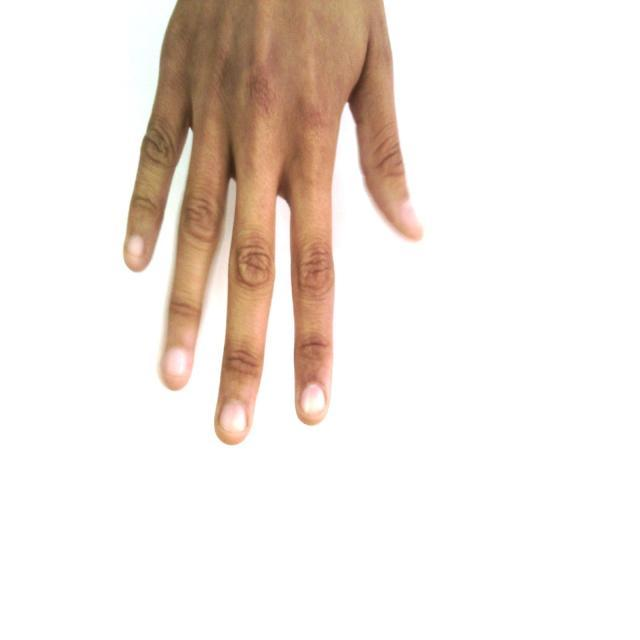Fingernail: (301, 384, 325, 418), (221, 403, 246, 434), (166, 348, 187, 377), (127, 236, 145, 258)
